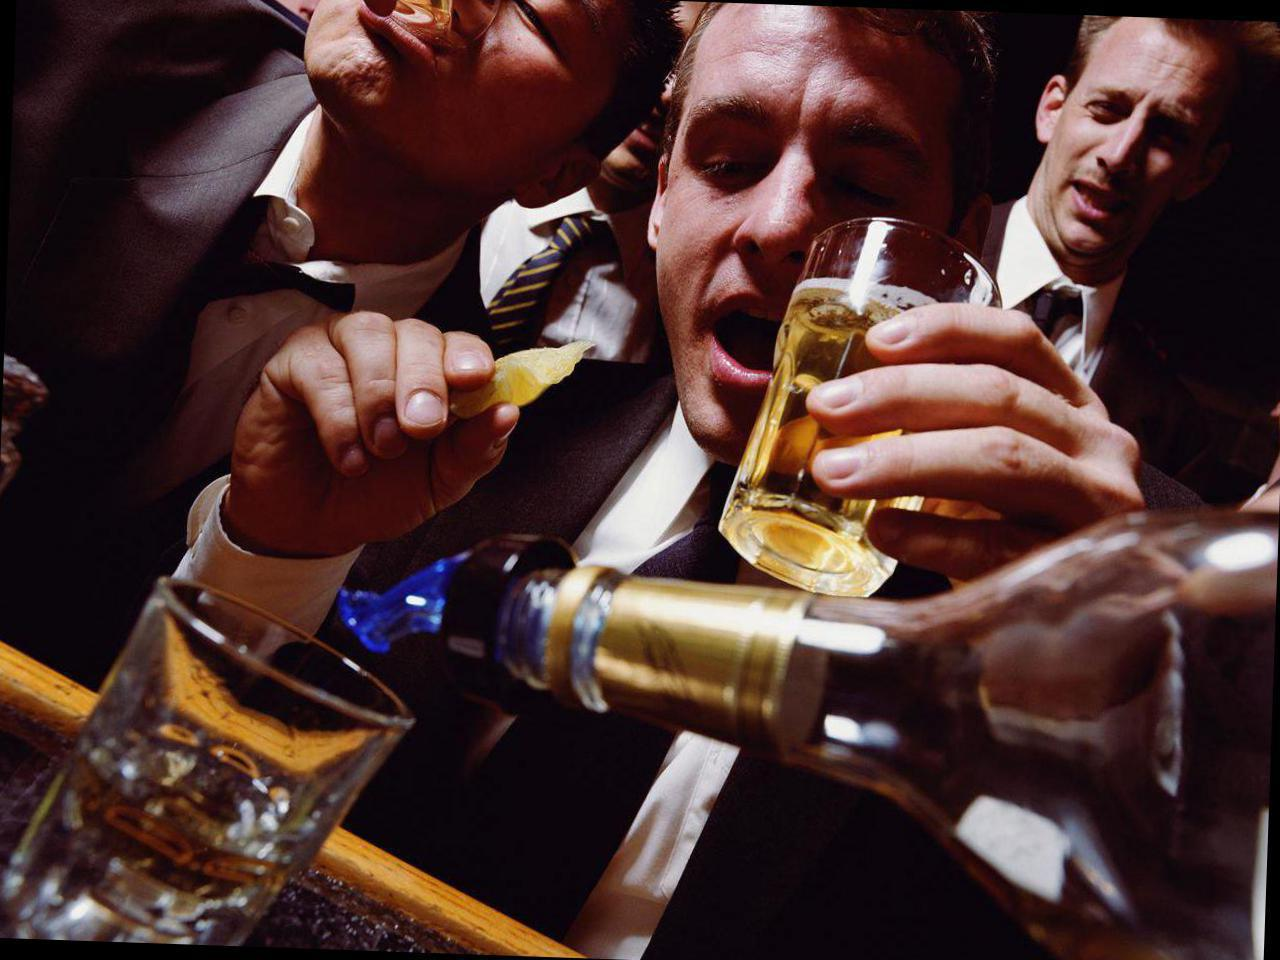Drunk: (667, 10, 956, 441), (1061, 10, 1198, 268)
